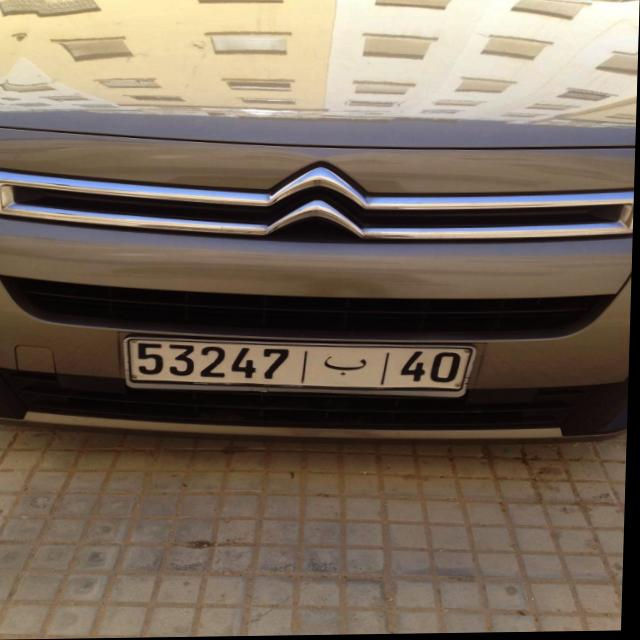License-Plate: (127, 337, 477, 398)
